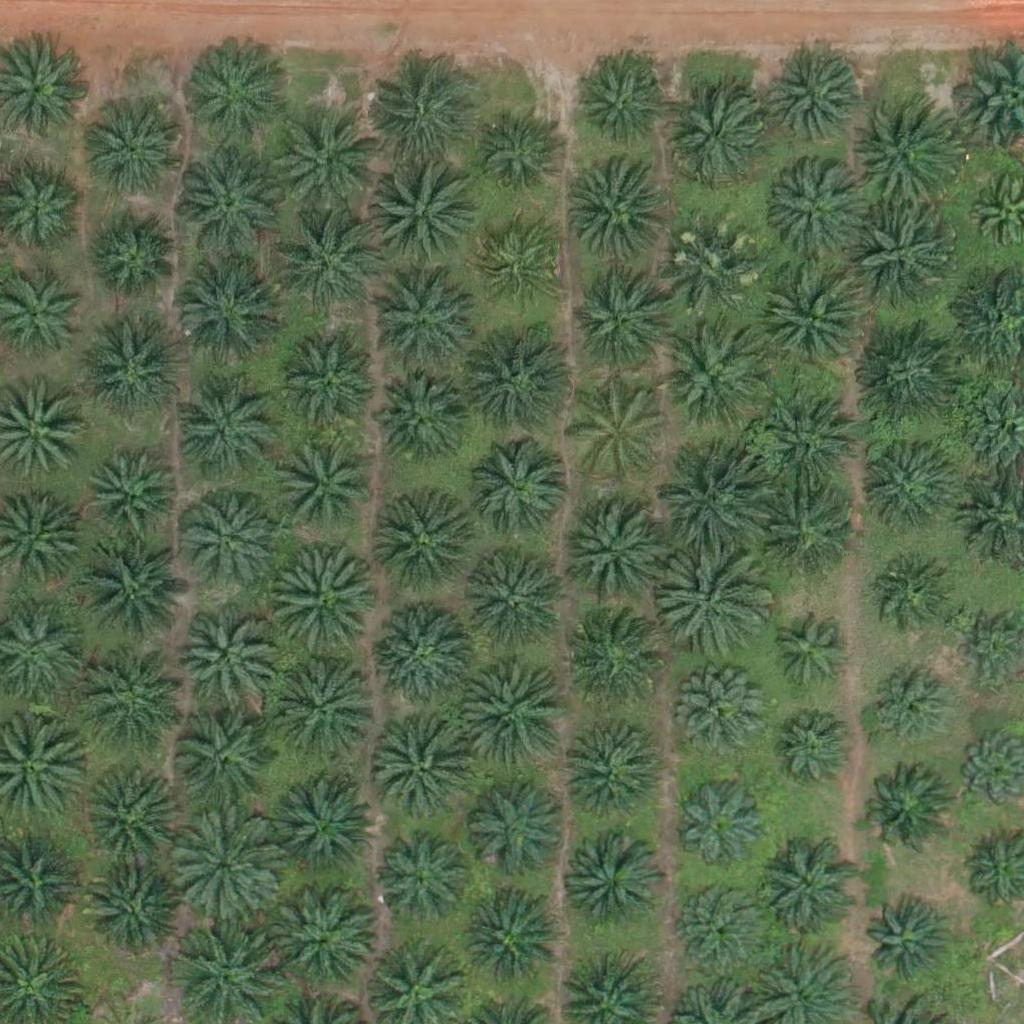Kelapa_Sawit: (167, 252, 280, 366), (166, 147, 279, 260), (266, 547, 379, 660), (268, 102, 381, 215), (362, 158, 475, 271), (458, 654, 571, 767), (174, 364, 286, 478), (464, 544, 576, 658), (657, 543, 769, 657), (657, 451, 769, 565), (76, 536, 188, 649), (180, 38, 292, 151), (167, 808, 279, 921), (268, 651, 380, 764), (271, 206, 383, 319), (361, 65, 473, 178), (468, 326, 580, 439), (567, 493, 679, 606), (851, 96, 963, 209), (848, 204, 960, 317), (856, 317, 968, 430), (75, 762, 175, 863), (85, 662, 185, 763), (81, 317, 181, 418), (85, 96, 185, 197), (179, 489, 279, 590), (176, 605, 276, 706), (274, 770, 374, 871), (276, 332, 376, 433), (275, 436, 375, 537), (372, 271, 472, 372), (369, 493, 469, 594), (375, 601, 475, 702), (374, 726, 474, 827), (467, 778, 567, 879), (474, 437, 574, 538), (568, 159, 668, 260), (565, 383, 665, 484), (560, 613, 660, 714), (564, 728, 664, 829), (565, 836, 665, 937), (665, 83, 765, 184), (662, 231, 762, 332), (766, 46, 866, 147), (767, 275, 867, 376), (762, 391, 862, 492), (760, 483, 860, 584), (858, 434, 958, 535), (461, 890, 561, 991), (169, 712, 269, 812), (369, 371, 469, 471), (567, 274, 667, 374), (673, 775, 773, 875), (663, 330, 763, 430), (763, 165, 863, 265), (759, 839, 859, 939), (274, 889, 374, 989), (76, 859, 176, 959), (764, 706, 852, 795), (678, 882, 766, 971), (870, 560, 958, 648), (476, 219, 564, 307), (581, 62, 669, 150), (761, 613, 848, 701), (864, 664, 951, 752), (860, 764, 947, 852), (86, 447, 173, 535), (89, 208, 176, 296), (377, 835, 464, 923), (474, 111, 561, 199), (680, 676, 767, 764), (865, 901, 952, 989)
